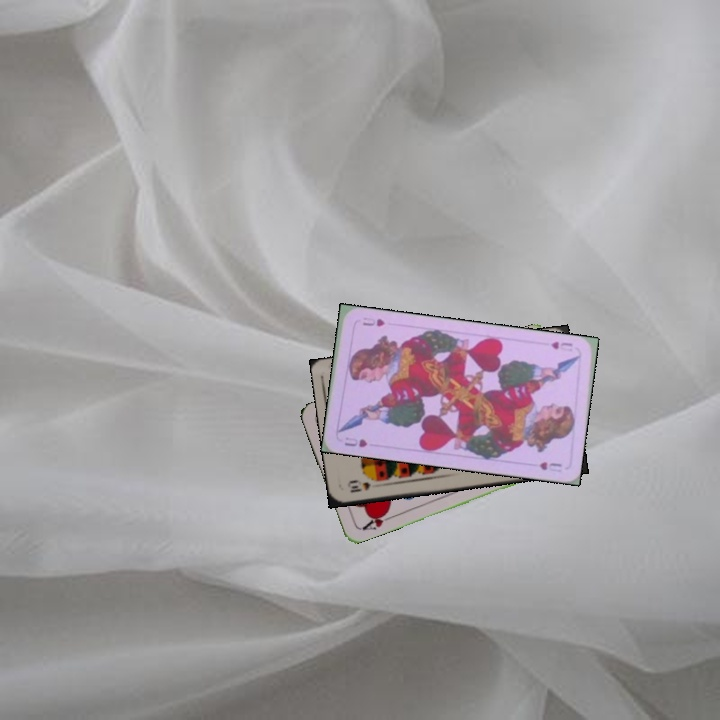HA: (356, 507, 395, 533)
HU: (340, 433, 369, 450), (547, 337, 575, 352)
S10: (346, 478, 373, 495)
